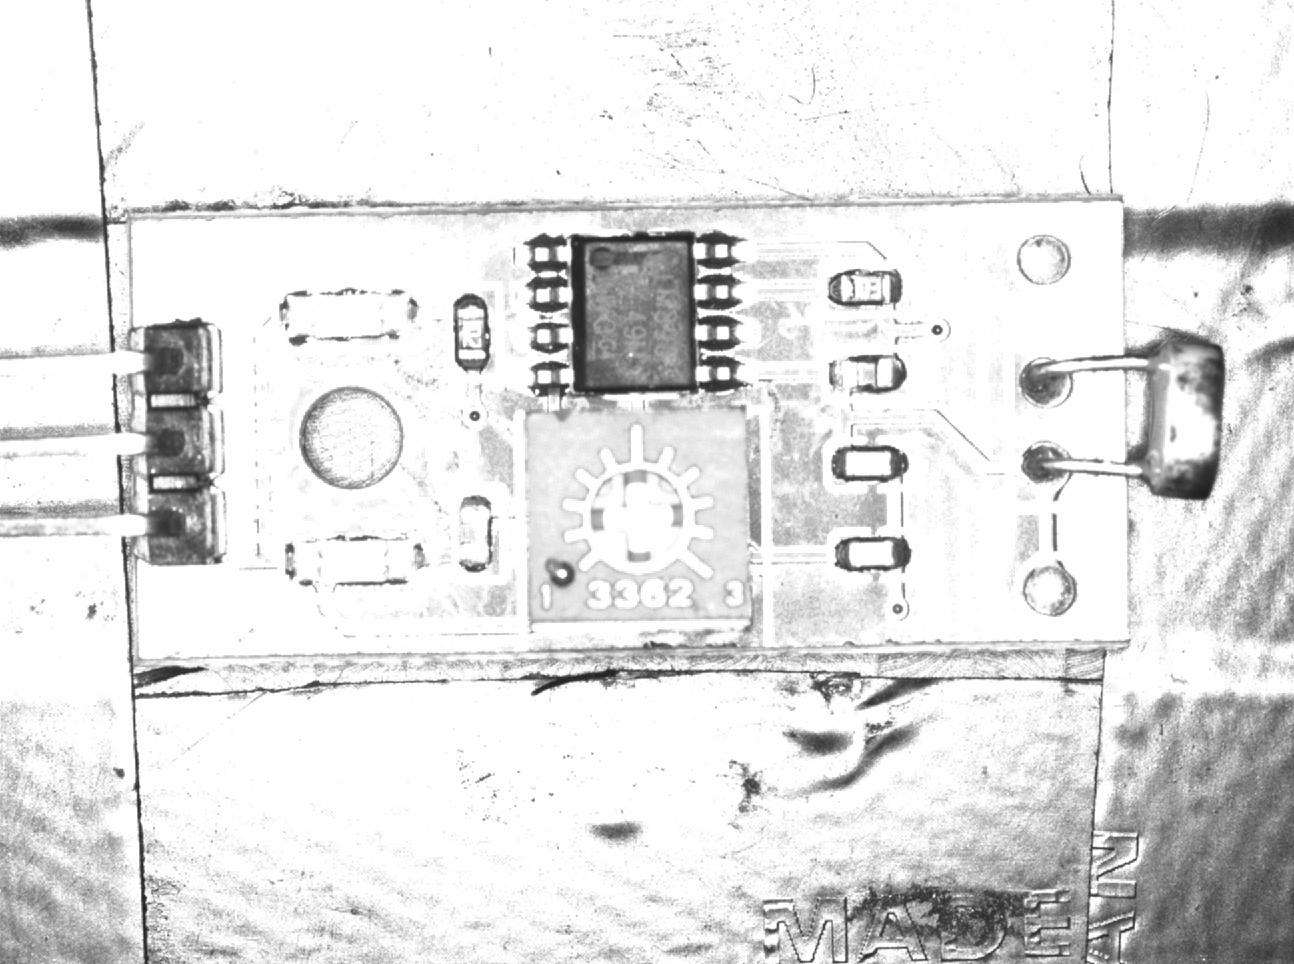miss: (816, 346, 919, 405)
ok: (446, 483, 504, 579), (444, 283, 496, 383), (828, 529, 926, 579), (821, 261, 908, 315), (825, 438, 913, 490)
